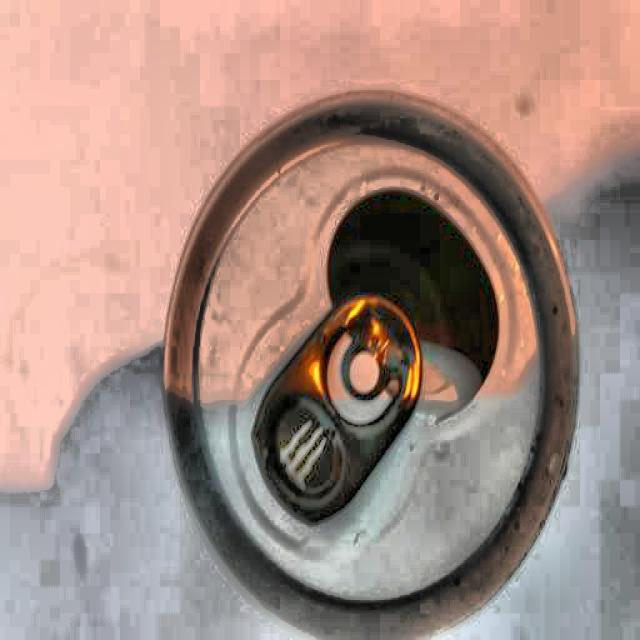metal: (169, 85, 572, 635)
